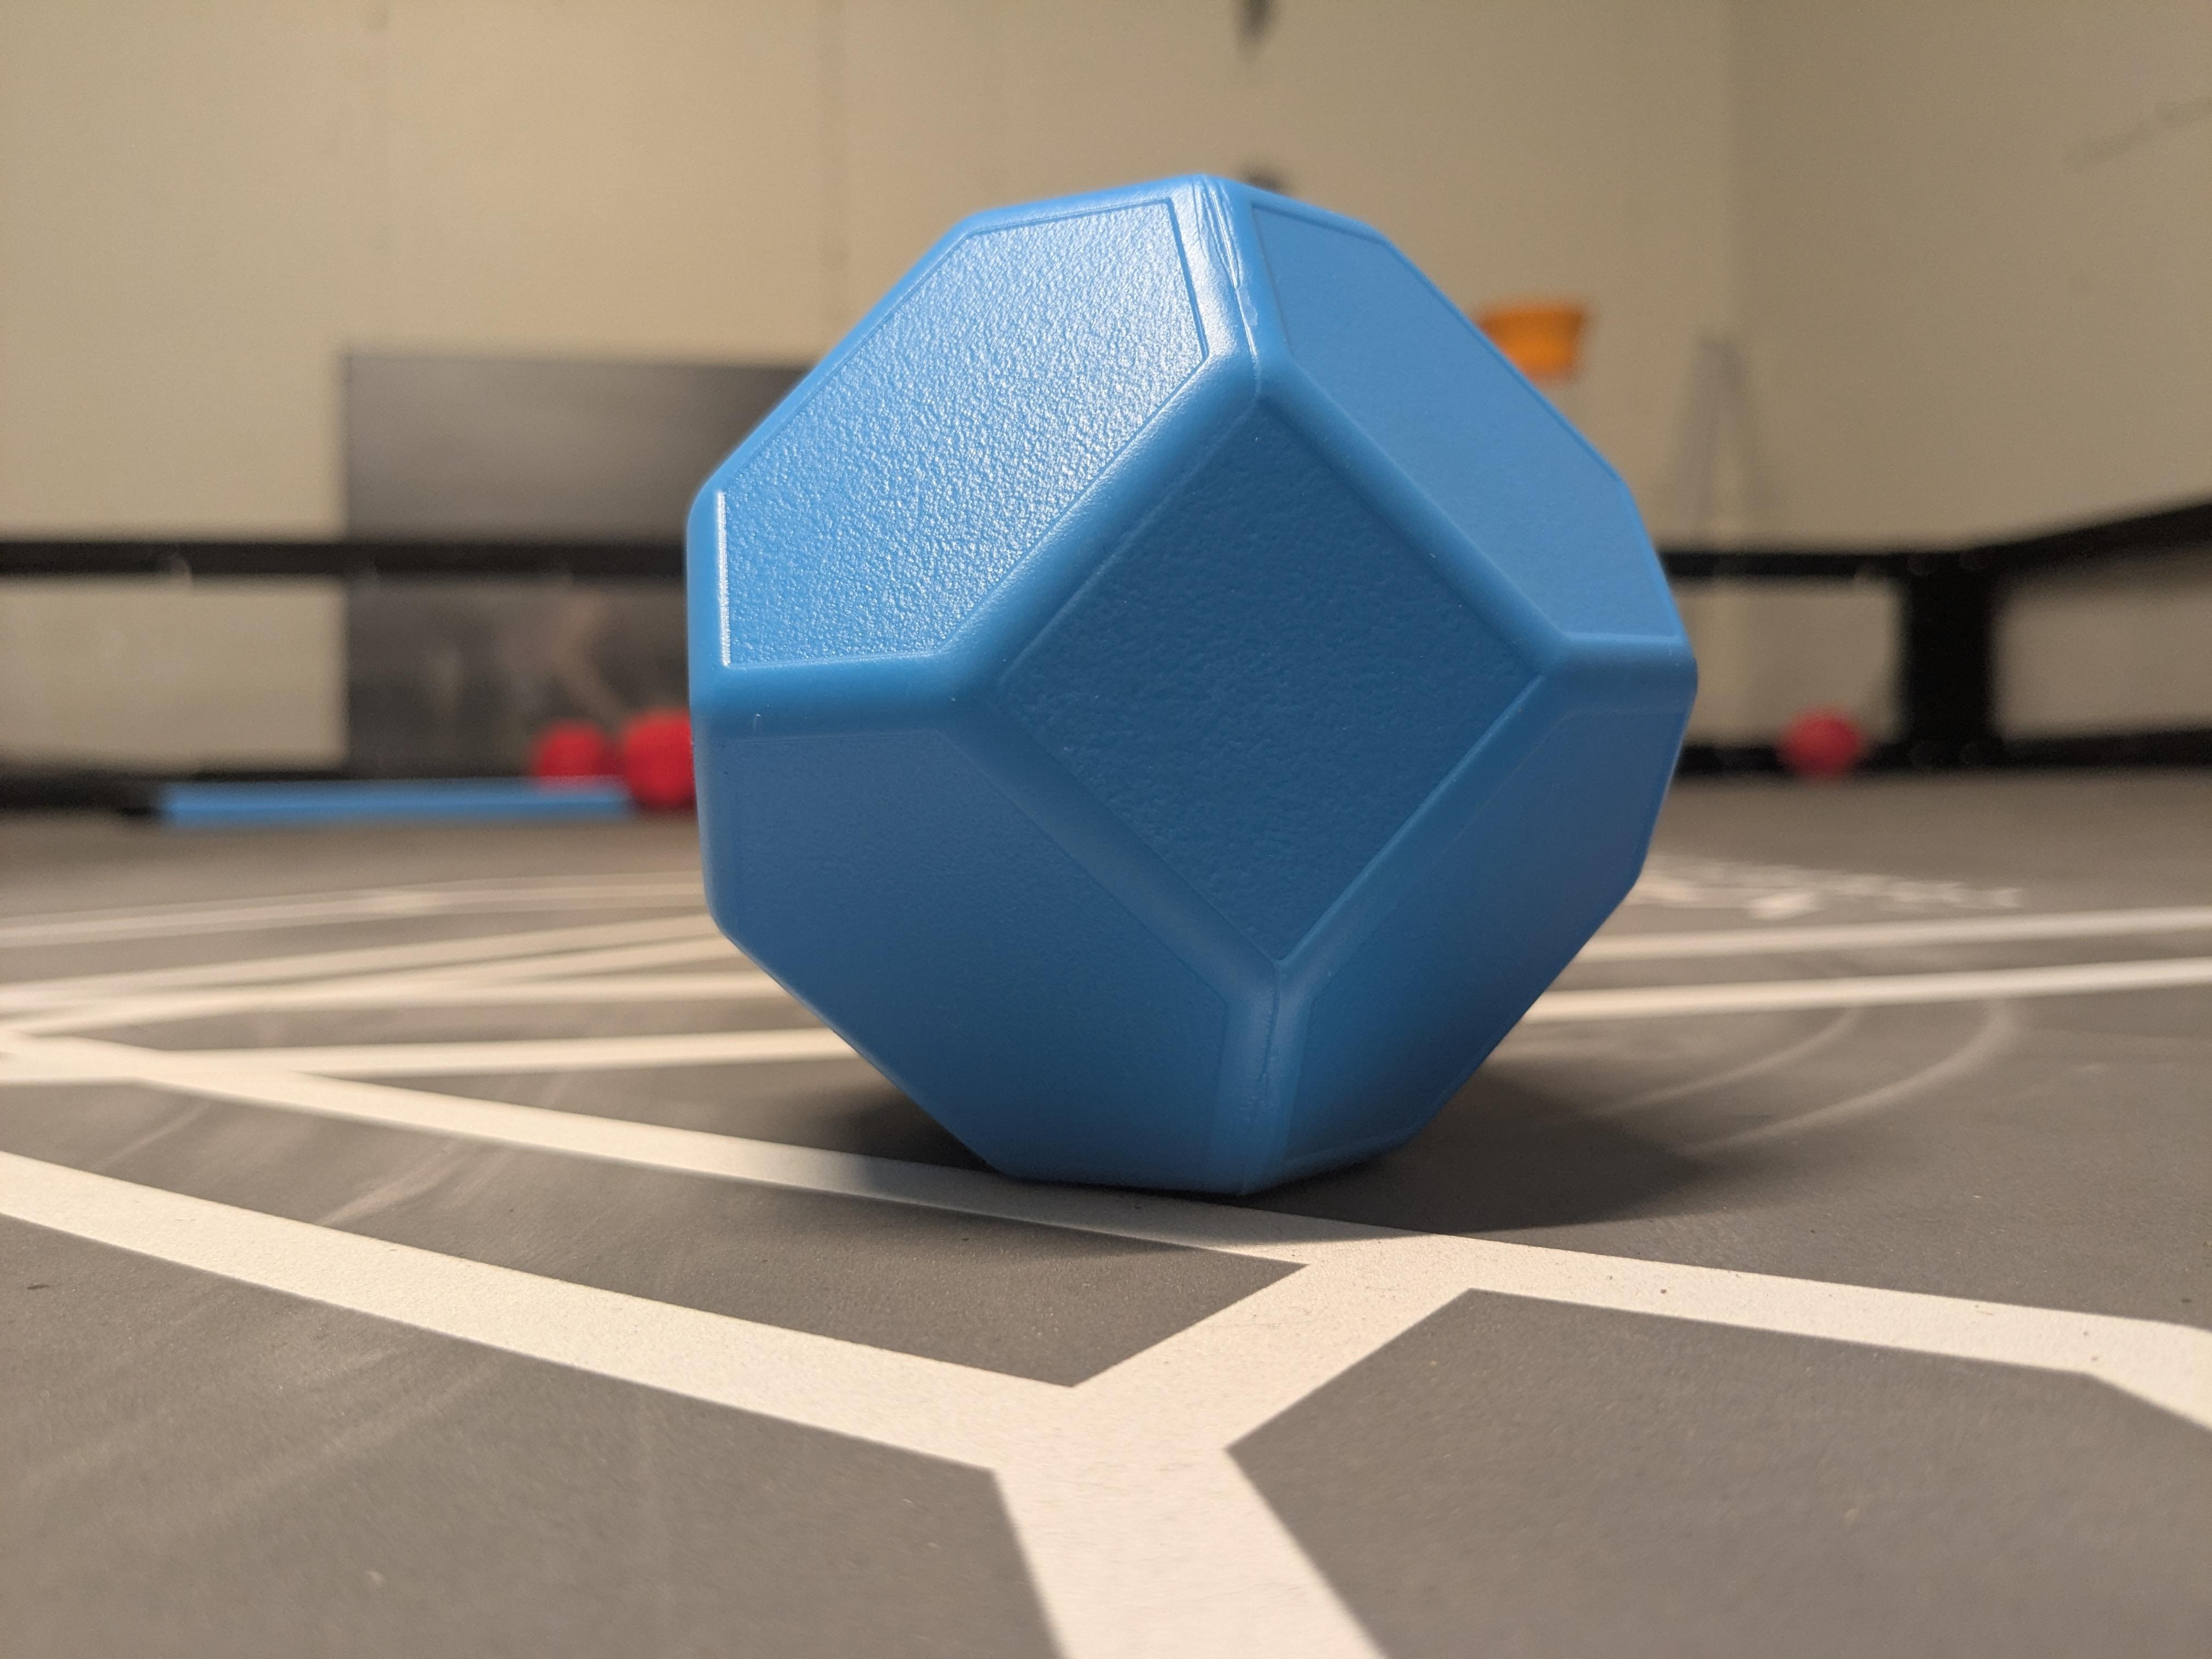Vex-Pieces-BLUE: (688, 174, 1695, 1194)
